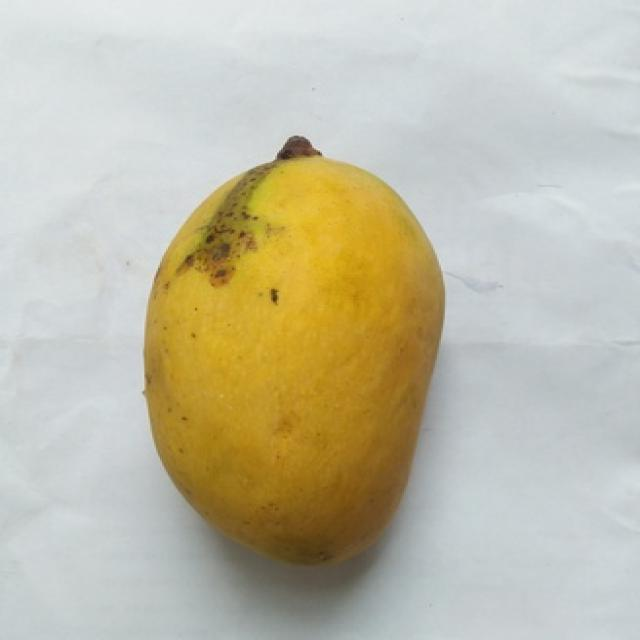Mango: (144, 147, 443, 559)
